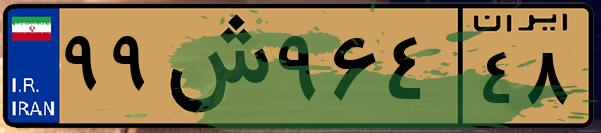4: (385, 28, 445, 110), (475, 38, 525, 113)
6: (330, 28, 385, 110)
8: (525, 38, 570, 115)
9: (270, 28, 330, 110), (57, 26, 110, 100), (110, 28, 158, 98)
ش: (158, 12, 270, 120)
